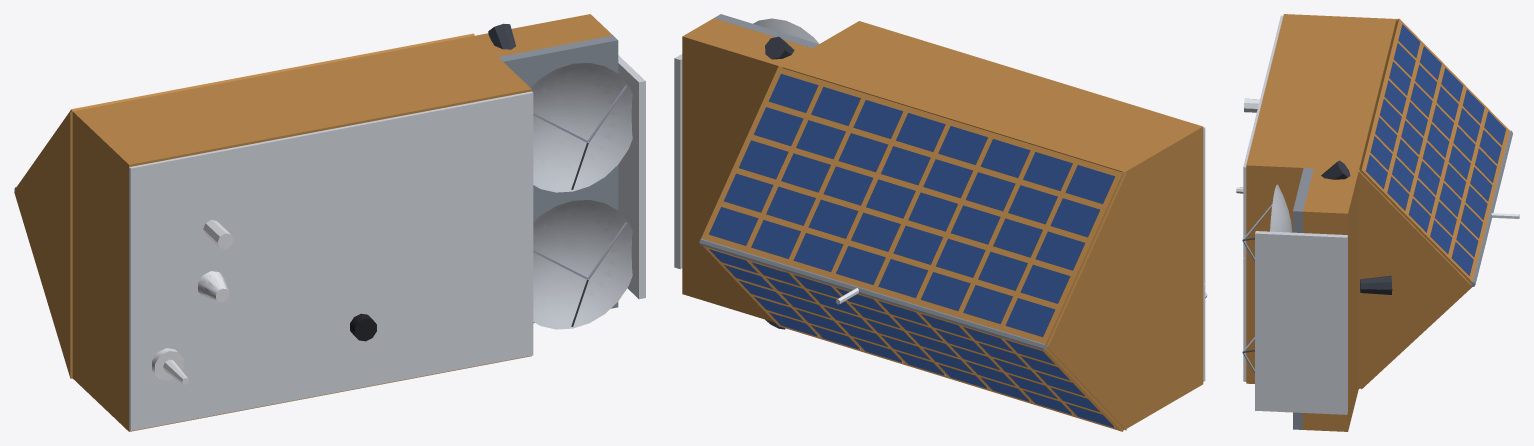
The model's file is cryosat-2.glb.
3 views of the same model, side by side, from view 1: azimuth 30°, elevation 25°; view 2: azimuth 150°, elevation 25°; view 3: azimuth 270°, elevation 25° (orthographic). The views are drawn at different scales.
Visible parts, largest first — view 1: body, foil; view 2: foil, solar-panel, body; view 3: foil, body, solar-panel.
Part boxes in pixels (x1=…): body: x1=14, y1=23, x2=645, y2=430; foil: x1=14, y1=14, x2=612, y2=431; foil: x1=682, y1=18, x2=1203, y2=430; solar-panel: x1=709, y1=74, x2=1114, y2=427; body: x1=674, y1=14, x2=1207, y2=431; foil: x1=1246, y1=14, x2=1496, y2=431; body: x1=1236, y1=15, x2=1519, y2=429; solar-panel: x1=1366, y1=24, x2=1506, y2=275.
Size of the model in its own units: 4.67 by 2.65 by 2.75.
